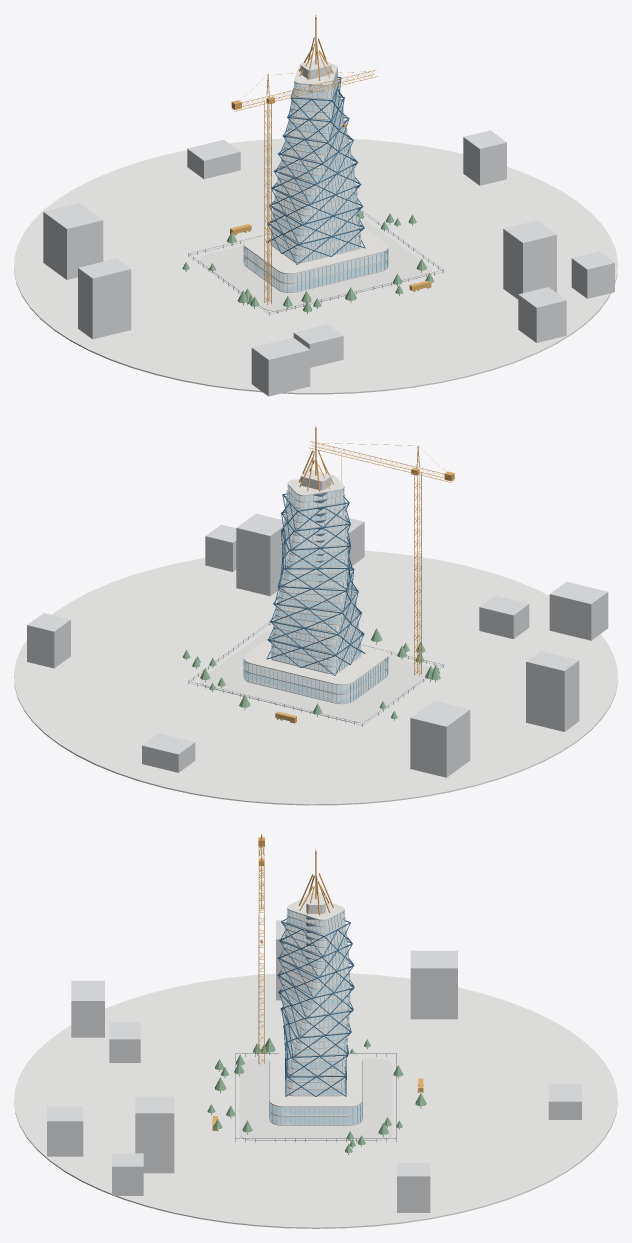
Rendered from abi-tower.glb.
3 renders of one model, top to bottom at view 1: azimuth 30°, elevation 25°; view 2: azimuth 150°, elevation 25°; view 3: azimuth 270°, elevation 25°, orthographic.
Visible parts, largest first — view 1: site_ground, neighbors, plaza, podium_slab, podium_glass, trees, crane_mast, crane_jib, crown_box, slab_02, slab_04, slab_01 (+7 smaller); view 2: site_ground, neighbors, plaza, podium_slab, podium_glass, crane_mast, trees, crown_box, crane_jib, slab_02, slab_01, slab_05 (+7 smaller); view 3: site_ground, neighbors, plaza, podium_slab, podium_glass, trees, crown_box, crane_mast.
Boxes of the visible parts, <box> form: site_ground: <box>14,138,617,394</box>; neighbors: <box>43,130,614,396</box>; plaza: <box>200,219,431,311</box>; podium_slab: <box>244,226,387,292</box>; podium_glass: <box>243,244,388,292</box>; trees: <box>182,208,433,314</box>; crane_mast: <box>264,101,271,304</box>; crane_jib: <box>231,70,377,127</box>; crown_box: <box>294,58,337,85</box>; slab_02: <box>271,234,360,256</box>; slab_04: <box>272,221,359,242</box>; slab_01: <box>270,240,360,263</box>; site_ground: <box>14,550,617,805</box>; neighbors: <box>27,513,608,777</box>; plaza: <box>200,630,429,722</box>; podium_slab: <box>244,637,387,704</box>; podium_glass: <box>243,656,388,703</box>; crane_mast: <box>414,472,421,675</box>; trees: <box>182,628,440,720</box>; crown_box: <box>287,469,344,496</box>; crane_jib: <box>309,441,454,482</box>; slab_02: <box>271,645,360,667</box>; slab_01: <box>271,652,361,674</box>; slab_05: <box>273,624,358,646</box>; site_ground: <box>14,973,617,1228</box>; neighbors: <box>47,920,581,1212</box>; plaza: <box>239,1058,392,1140</box>; podium_slab: <box>269,1053,362,1125</box>; podium_glass: <box>269,1060,362,1125</box>; trees: <box>207,1037,426,1154</box>; crown_box: <box>287,893,344,920</box>; crane_mast: <box>258,860,264,1064</box>.
Size of the model in its own units: 300 by 138 by 300.
